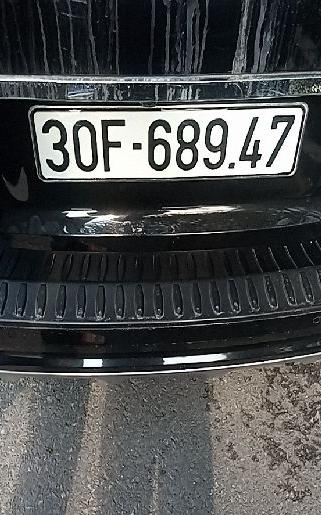Plate-iWeP: (31, 106, 307, 181)
